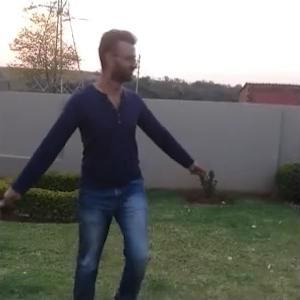land: (0, 17, 241, 298)
